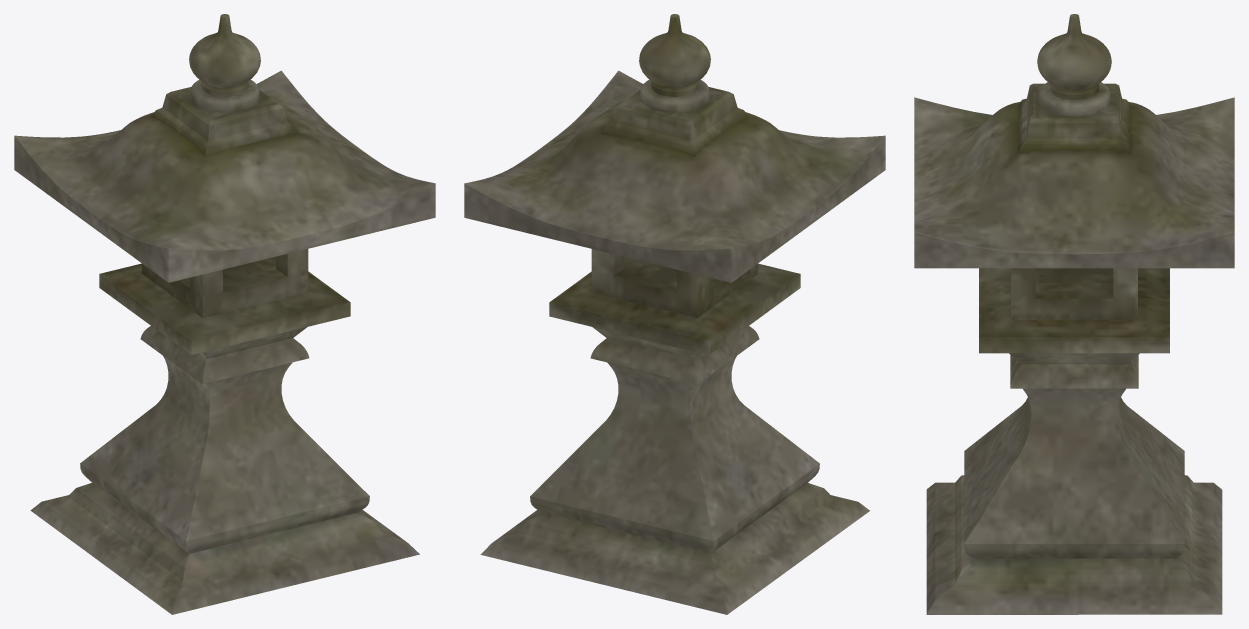
File: den_thap.glb
3 views of the same model, side by side, from view 1: azimuth 30°, elevation 25°; view 2: azimuth 150°, elevation 25°; view 3: azimuth 270°, elevation 25° (orthographic). The views are drawn at different scales.
Visible parts, largest first — view 1: 4_Japanese_lanterns_0; view 2: 4_Japanese_lanterns_0; view 3: 4_Japanese_lanterns_0.
Boxes of the visible parts, <box> form: 4_Japanese_lanterns_0: <box>14,14,435,614</box>; 4_Japanese_lanterns_0: <box>464,14,885,614</box>; 4_Japanese_lanterns_0: <box>914,14,1234,614</box>.
Bounding box in the file's own units: 1.11 × 2.05 × 1.11.
1 material, 1 textured.
